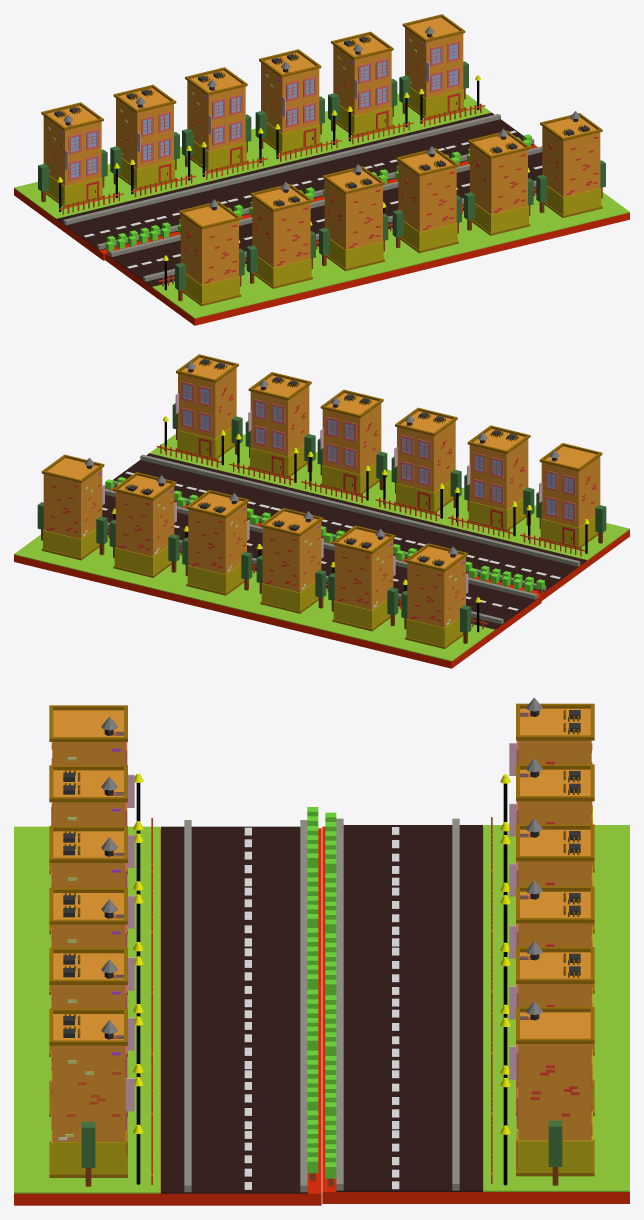
File: building.glb
The picture shows the model from 3 angles, top to bottom: view 1: azimuth 30°, elevation 25°; view 2: azimuth 150°, elevation 25°; view 3: azimuth 270°, elevation 25°; orthographic projection. The views are drawn at different scales.
Parts seen in each view (by area): view 1: Cube.251, Cube.167, Cube.223, Cube.278, Cube.306, Cube.195, Cube.084, Cube, Cube.111, Cube.051, Cube.139, Cube.005 (+70 smaller); view 2: Cube.084, Cube, Cube.005, Cube.111, Cube.051, Cube.139, Cube.251, Cube.167, Cube.195, Cube.306, Cube.278, Cube.223 (+70 smaller); view 3: Cube.084, Cube.085, Cube.224, Cube.223, Cube.168, Cube.252, Cube.307, Cube.001, Cube.112, Cube.052, Cube.279, Cube.140 (+66 smaller).
Boxes of the visible parts, left/top/right/bottom form: Cube.251: left=180, top=205, right=238, bottom=285; Cube.167: left=398, top=152, right=456, bottom=232; Cube.223: left=542, top=117, right=600, bottom=196; Cube.278: left=252, top=188, right=310, bottom=267; Cube.306: left=324, top=171, right=382, bottom=250; Cube.195: left=470, top=135, right=527, bottom=214; Cube.084: left=405, top=17, right=463, bottom=98; Cube: left=187, top=70, right=245, bottom=151; Cube.111: left=333, top=35, right=391, bottom=115; Cube.051: left=43, top=105, right=101, bottom=186; Cube.139: left=261, top=52, right=319, bottom=133; Cube.005: left=116, top=88, right=173, bottom=168; Cube.084: left=43, top=458, right=102, bottom=539; Cube: left=262, top=511, right=321, bottom=592; Cube.005: left=334, top=529, right=393, bottom=610; Cube.111: left=115, top=475, right=174, bottom=556; Cube.051: left=407, top=546, right=465, bottom=627; Cube.139: left=188, top=493, right=246, bottom=574; Cube.251: left=541, top=446, right=600, bottom=527; Cube.167: left=322, top=393, right=381, bottom=474; Cube.195: left=250, top=375, right=309, bottom=456; Cube.306: left=397, top=411, right=455, bottom=492; Cube.278: left=469, top=428, right=528, bottom=510; Cube.223: left=178, top=357, right=236, bottom=438; Cube.084: left=518, top=1012, right=591, bottom=1140; Cube.085: left=336, top=1128, right=482, bottom=1191; Cube.224: left=161, top=1130, right=307, bottom=1193; Cube.223: left=52, top=1014, right=125, bottom=1142; Cube.168: left=161, top=1009, right=300, bottom=1071; Cube.252: left=161, top=826, right=300, bottom=888; Cube.307: left=161, top=947, right=300, bottom=1009; Cube.001: left=343, top=946, right=482, bottom=1007; Cube.112: left=343, top=1068, right=482, bottom=1130; Cube.052: left=343, top=825, right=482, bottom=886; Cube.279: left=161, top=886, right=300, bottom=948; Cube.140: left=343, top=1008, right=482, bottom=1068.
Bounding box in the file's own units: 237 × 49.21 × 168.
